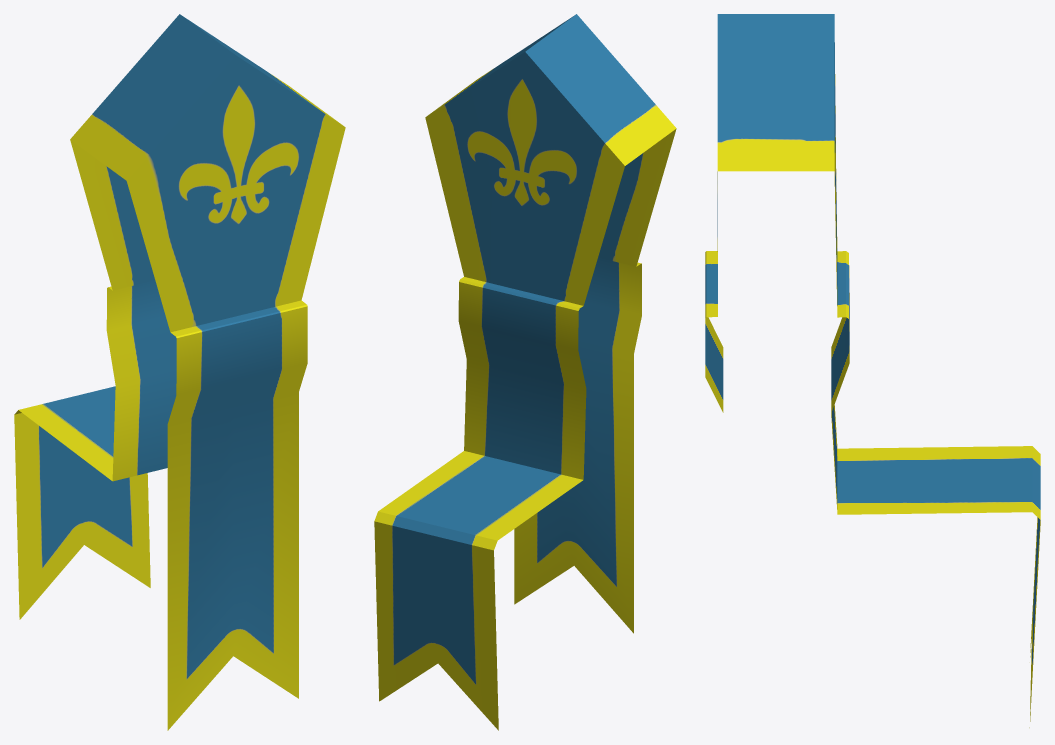
File: chair_2_cloth.fbx
3 views of the same model, side by side, from view 1: azimuth 30°, elevation 25°; view 2: azimuth 150°, elevation 25°; view 3: azimuth 270°, elevation 25° (orthographic). The views are drawn at different scales.
Visible parts, largest first — view 1: Cube.010; view 2: Cube.010; view 3: Cube.010.
Boxes of the visible parts, x1,y1,x2,y2 form: Cube.010: (14, 14, 345, 730); Cube.010: (374, 14, 676, 730); Cube.010: (705, 14, 1040, 727).
Size of the model in its own units: 143 by 412 by 183.
